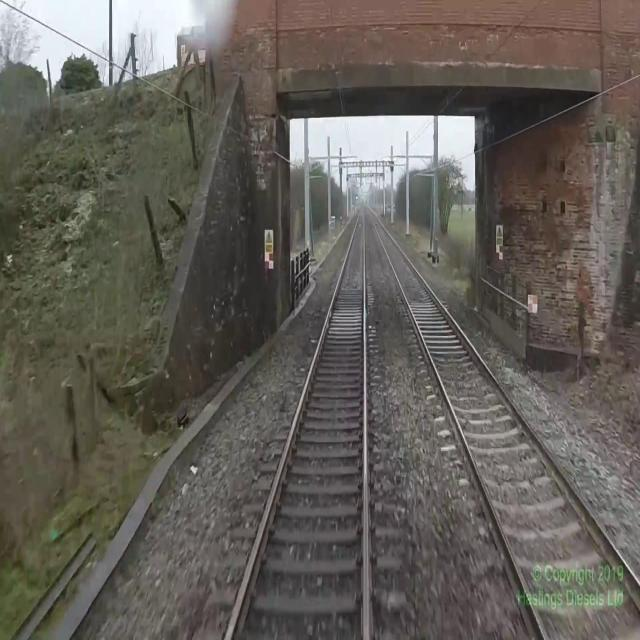rail-track: (372, 217, 640, 639), (229, 215, 364, 639)
